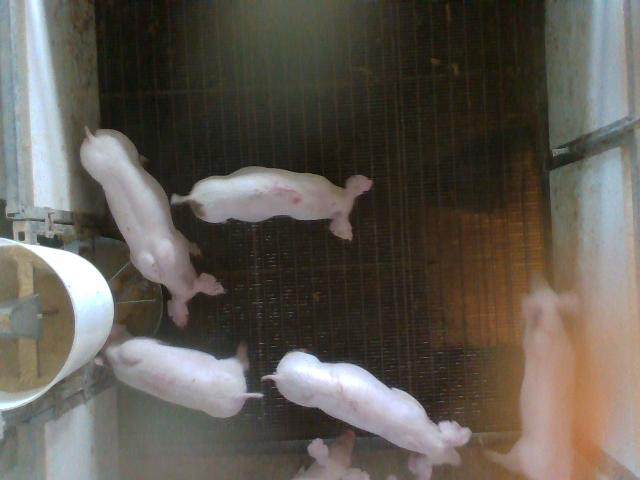pig-4: (95, 326, 262, 418)
pig-5: (171, 166, 372, 239)
